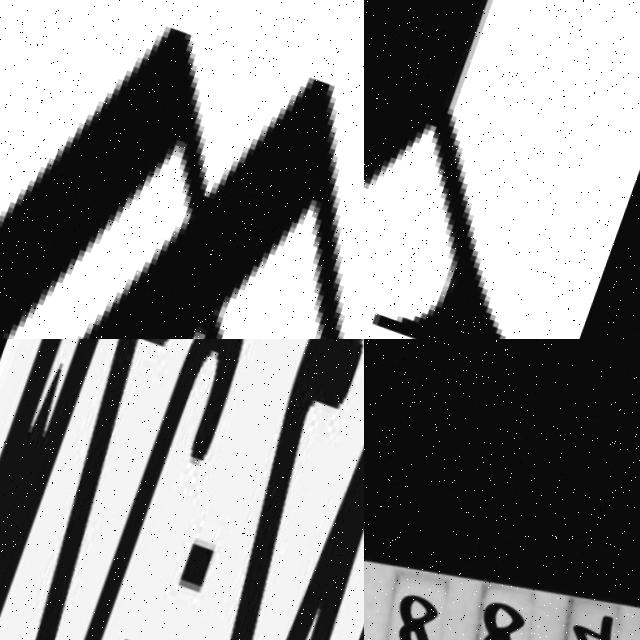2: (137, 339, 364, 640)
4: (548, 584, 640, 640)
8: (455, 571, 553, 640), (373, 567, 462, 640)
C: (31, 339, 273, 640)
E: (277, 339, 364, 640)
M: (0, 339, 128, 640)
V: (203, 339, 364, 640)
W: (0, 0, 364, 339)
Y: (364, 0, 640, 339)
Z: (0, 339, 200, 640)
